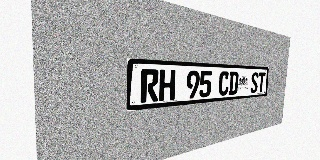5: (199, 71, 212, 98)
9: (186, 70, 200, 99)
C: (218, 71, 229, 96)
D: (228, 72, 239, 95)
H: (159, 69, 176, 101)
R: (140, 69, 159, 103)
S: (250, 72, 259, 93)
T: (257, 72, 265, 93)
